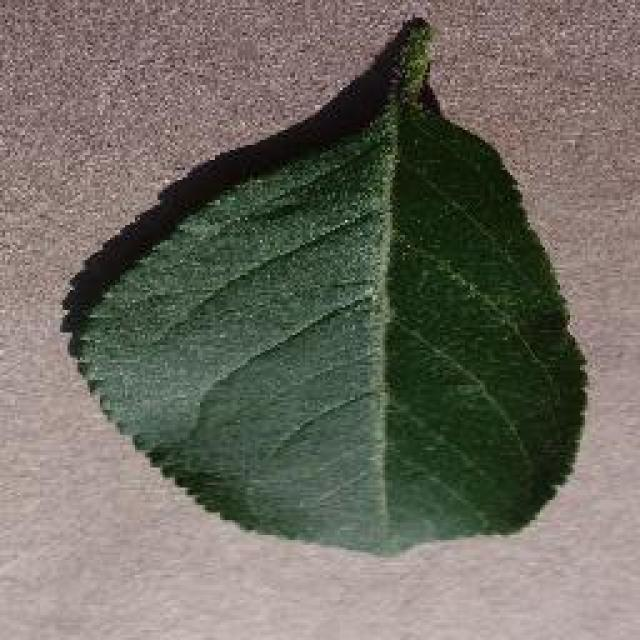apple healthy: (60, 12, 590, 558)
